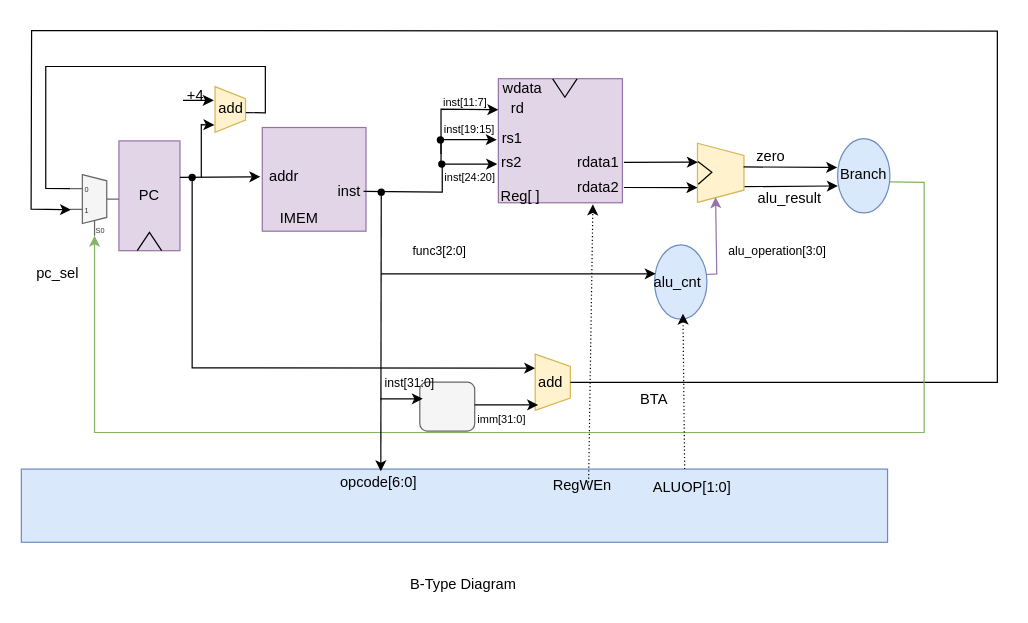
This 1028x623 diagram has some shape labels left out. Each missing label, with the centre of its shape:
alu: [720,172]
Imm. Gen: [447,406]
